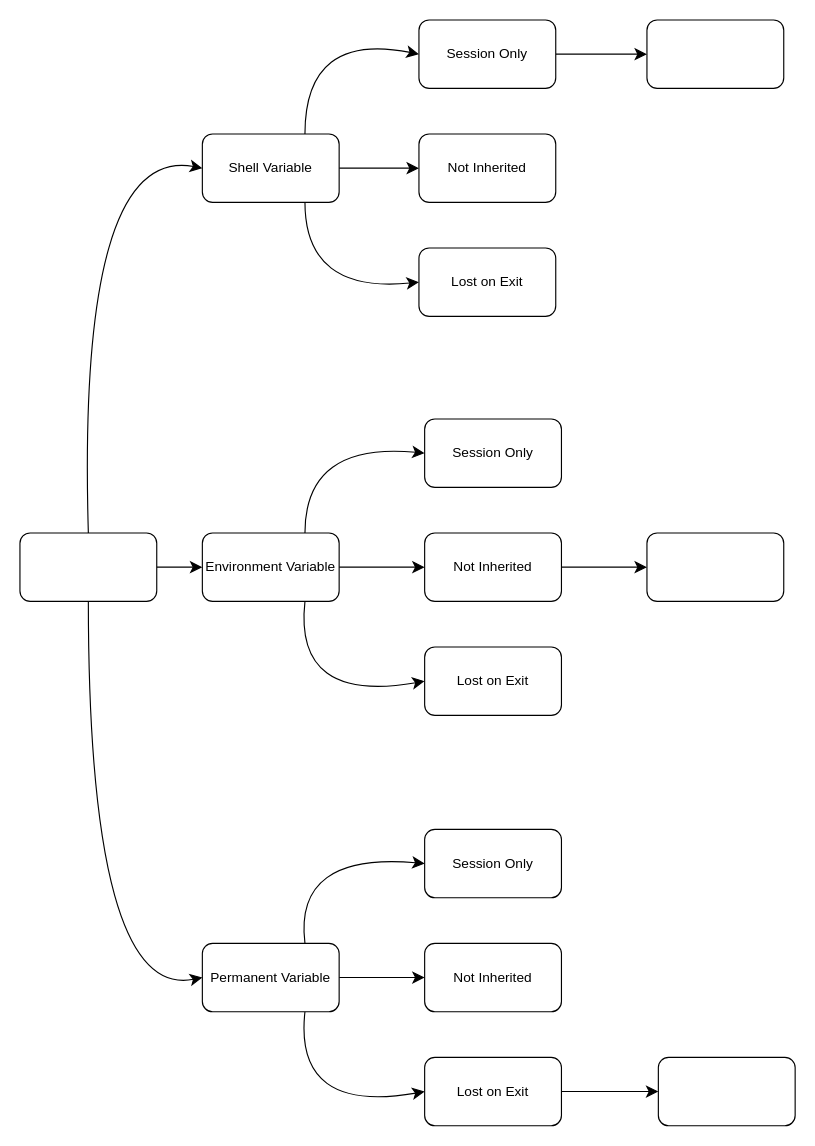
This 815x1146 diagram has some shape labels left out. Each missing label, with the centre of its shape:
export VAR=='value': (715,566)
Linux Variable Types: (88,566)
my_var='value': (715,53)
~/.zshrc file: (726,1091)
